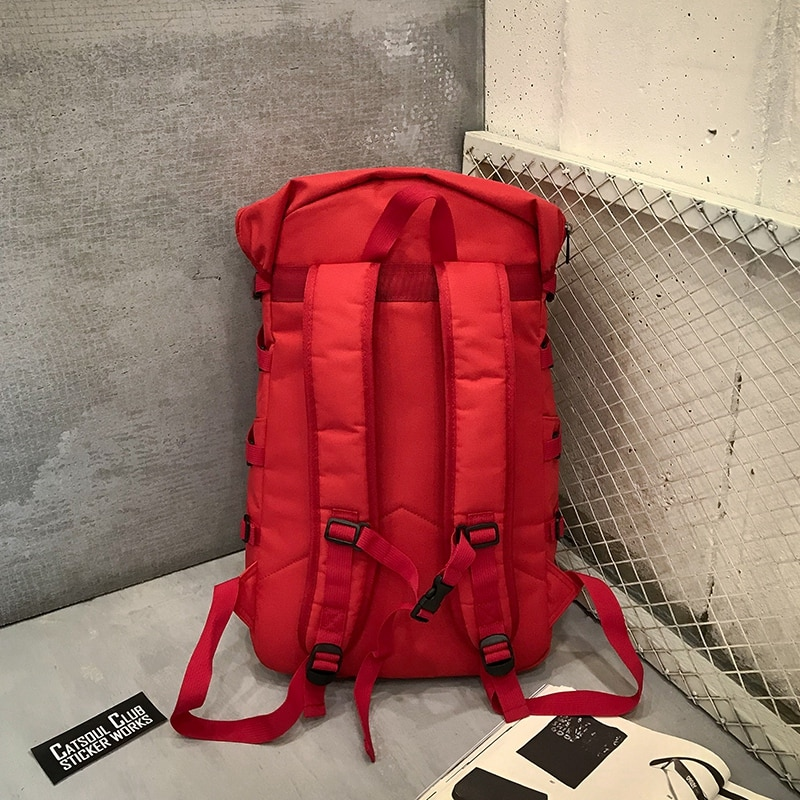Men's Backpacks: (170, 164, 649, 766)
